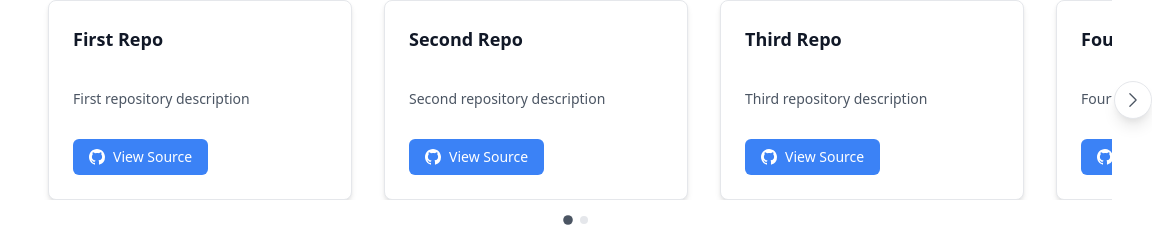
Test: RepositoryCarousel › navigates to specific page when indicator clicked
Click the button named "Go to page".
click(584, 220)  # box x1=580 y1=216 x2=588 y2=224
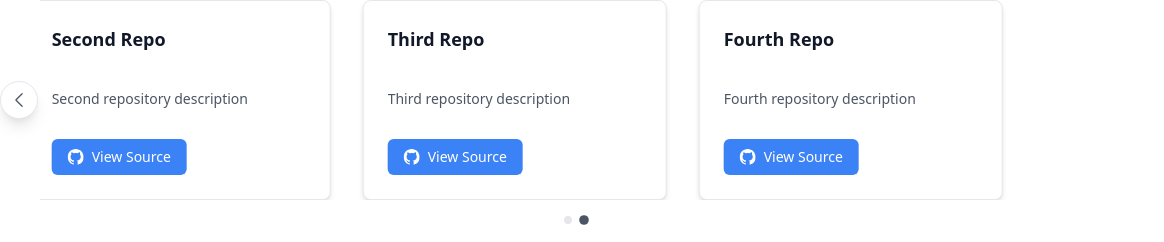
Now the button named "Previous repositories" is shown, box x1=0 y1=81 x2=38 y2=119
